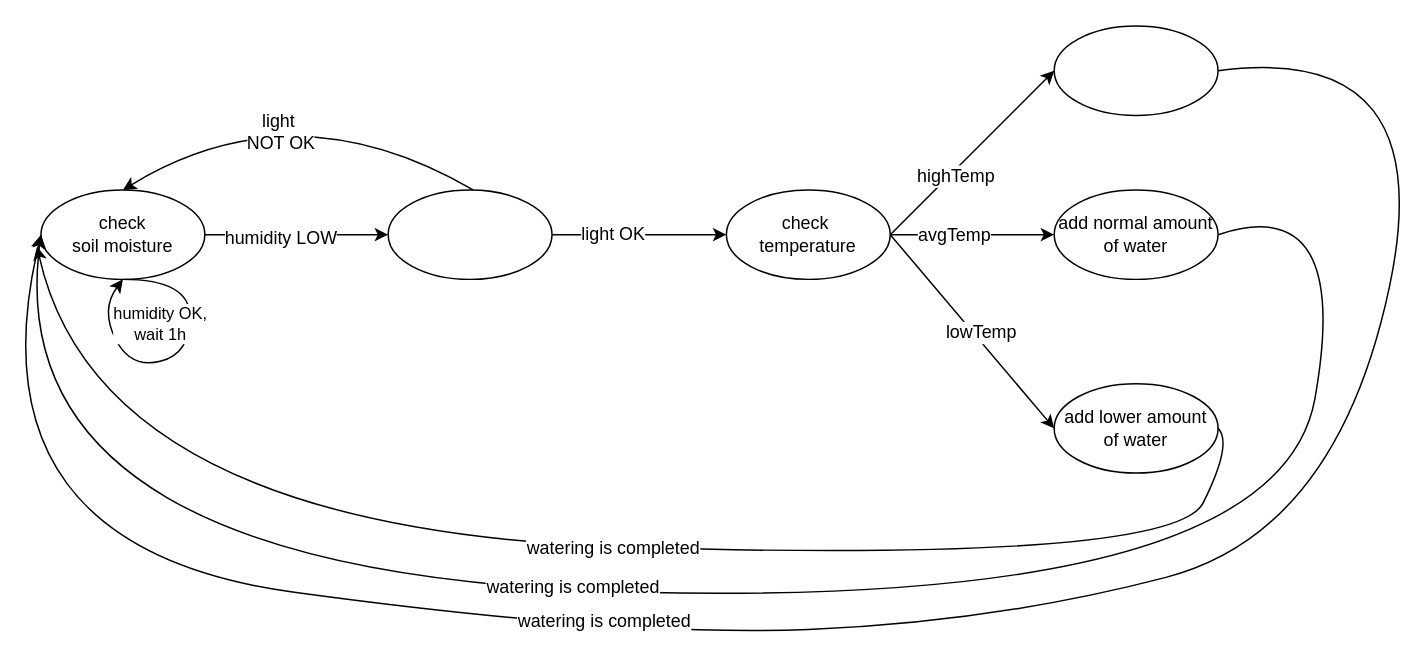
This 1426x659 diagram has some shape labels left out. The centre of each missing label's shape, as x and y in pixels:
"add extra amount of water" belongs at pixel 1135 70.
"check light intensity" belongs at pixel 469 233.
